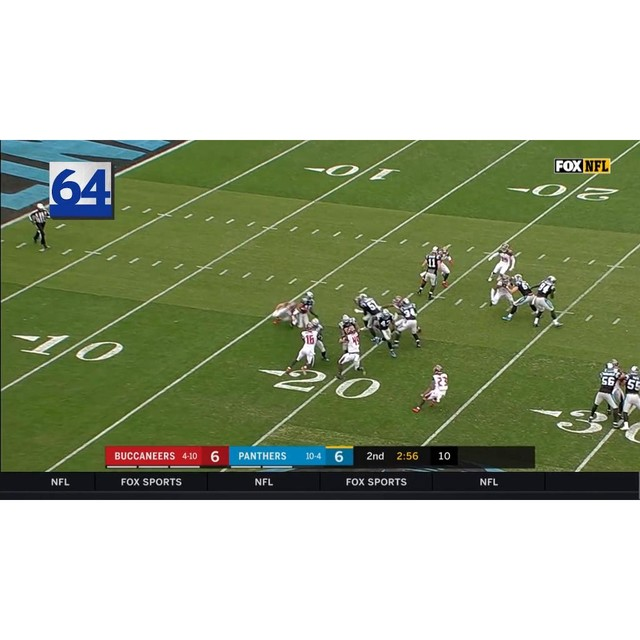american-football-player: (588, 361, 624, 427), (412, 364, 449, 413), (285, 324, 318, 375), (479, 274, 518, 317), (529, 281, 562, 329), (391, 299, 422, 350), (337, 326, 366, 379), (504, 272, 534, 322), (618, 365, 640, 430), (371, 309, 398, 359), (354, 292, 382, 339), (417, 248, 441, 299), (487, 243, 517, 282), (307, 316, 329, 362), (434, 244, 454, 288), (271, 301, 298, 327)
referee: (27, 201, 52, 252)
